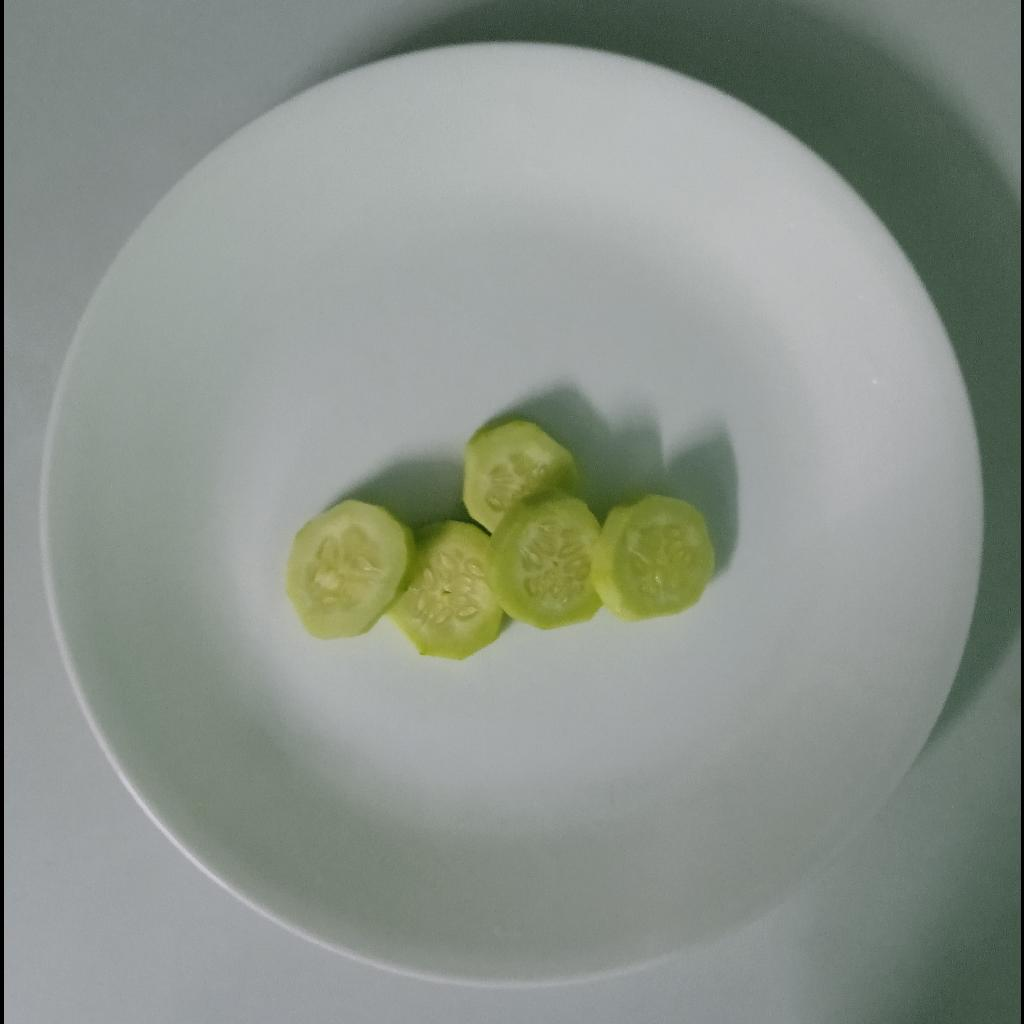cucumber: (281, 421, 718, 660)
